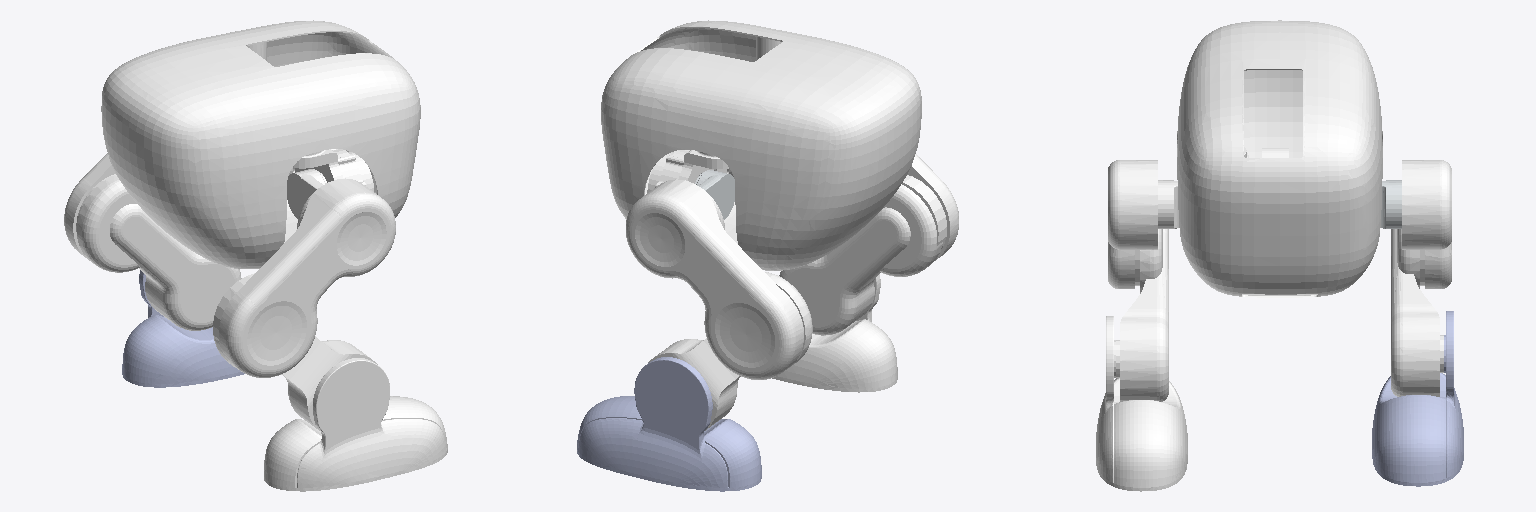
--- What the picture shows (computed from the rendered views, not written in the file) ---
Views: 3 orthographic renders of the robot side by side, from view 1: azimuth 30°, elevation 25°; view 2: azimuth 150°, elevation 25°; view 3: azimuth 270°, elevation 25°.
Robot: tangba — 16 links, 15 joints (10 revolute, 5 fixed); root link base_link; default pose: all joints at 0.
Links seen in each view (by area): view 1: base_link, leg_r3_link, leg_r5_link, leg_l4_link, leg_l5_link, leg_r4_link, leg_r1_link, leg_l3_link, leg_r2_link; view 2: base_link, leg_l3_link, leg_l5_link, leg_r4_link, leg_r5_link, leg_l4_link, leg_r3_link, leg_l1_link, leg_l2_link; view 3: base_link, leg_l5_link, leg_r5_link, leg_r4_link, leg_l4_link, leg_r3_link, leg_l3_link, leg_l2_link, leg_r2_link.
Boxes of the visible links, x1,y1,x2,y2 form: base_link: (101, 20, 420, 268); leg_r3_link: (213, 178, 395, 377); leg_r5_link: (264, 358, 447, 491); leg_l4_link: (77, 175, 241, 330); leg_l5_link: (122, 270, 244, 387); leg_r4_link: (213, 335, 377, 430); leg_r1_link: (293, 149, 373, 191); leg_l3_link: (64, 153, 115, 257); leg_r2_link: (287, 169, 326, 218); base_link: (601, 20, 921, 270); leg_l3_link: (626, 179, 803, 379); leg_l5_link: (577, 357, 761, 491); leg_r4_link: (779, 184, 942, 335); leg_r5_link: (772, 274, 897, 392); leg_l4_link: (648, 272, 812, 430); leg_r3_link: (902, 154, 958, 260); leg_l1_link: (647, 150, 728, 192); leg_l2_link: (695, 170, 734, 219); base_link: (1177, 20, 1382, 297); leg_l5_link: (1372, 311, 1463, 486); leg_r5_link: (1096, 316, 1187, 491); leg_r4_link: (1116, 229, 1168, 401); leg_l4_link: (1391, 229, 1443, 396); leg_r3_link: (1108, 160, 1157, 288); leg_l3_link: (1402, 160, 1451, 288); leg_l2_link: (1381, 180, 1401, 228); leg_r2_link: (1158, 180, 1178, 228).
Bounding box of the posed robot: 0.3866 × 0.4556 × 0.4997 m (x, y, z).
Meshes: 11 distinct files referenced, 11 mesh visuals loaded (11 binary STL).

URDF robot description (tangba):
<?xml version="1.0" encoding="utf-8"?>
<!-- This URDF was automatically created by SolidWorks to URDF Exporter! Originally created by Stephen Brawner ([email redacted]) 
     Commit Version: 1.6.0-4-g7f85cfe  Build Version: 1.6.7995.38578
     For more information, please see http://wiki.ros.org/sw_urdf_exporter -->
<robot
  name="tangba">
    
  <gazebo>
    <plugin name="gazebo_ros_control" filename="libhunter_bipedal_hw_sim.so">
      <robotNamespace>/</robotNamespace>
      <robotParam>legged_robot_description</robotParam>
      <robotSimType>legged_gazebo/LeggedHWSim</robotSimType>
    </plugin>
  </gazebo>

  <gazebo>
    <plugin filename="libgazebo_ros_p3d.so" name="p3d_base_controller">
      <alwaysOn>true</alwaysOn>
      <updateRate>500.0</updateRate>
      <bodyName>base_link</bodyName>
      <topicName>ground_truth/state</topicName>
      <gaussianNoise>0</gaussianNoise>
      <frameName>world</frameName>
      <xyzOffsets>0 0 0</xyzOffsets>
      <rpyOffsets>0 0 0</rpyOffsets>
    </plugin>
  </gazebo>

  <link
    name="base_link">
    <inertial>
      <origin
        xyz="-0.0381325 -0.0043577 0.1372842"
        rpy="0 0 0" />
      <mass
        value="3.71439" />
      <inertia
        ixx="0.0693054"
        ixy="-0.0012640"
        ixz="0.0028288"
        iyy="0.1060973"
        iyz="0.0053874"
        izz="0.0974062" />
    </inertial>
    <visual>
      <origin
        xyz="0 0 0"
        rpy="0 0 0" />
      <geometry>
        <mesh
          filename="package://legged_hunter_description/tangba_meshes/base_link.STL" />
      </geometry>
      <material
        name="">
        <color
          rgba="1 1 1 1" />
      </material>
    </visual>
    <collision>
      <origin
        xyz="0 0 0"
        rpy="0 0 0" />
      <geometry>
        <box size="0.001 0.001 0.001" /><!--宽 长 高!-->
      </geometry>
    </collision>
  </link>
  <!-- Imu is fixed to the base link -->
  <joint name="imu_joint" type="fixed">
    <origin rpy="0. 0. 0." xyz="0. 0. 0"/>
    <parent link="base_link"/>
    <child link="imu_link"/>
  </joint>
  <!-- Imu link -->
  <link name="imu_link">
    <inertial>
      <mass value="0.01"/>
      <origin rpy="0 0 0" xyz="0 0 0"/>
      <inertia ixx="0.000001" ixy="0" ixz="0" iyy="0.000001" iyz="0" izz="0.000001"/>
    </inertial>
    <visual>
      <origin rpy="0 0 0" xyz="0 0 0"/>
      <geometry>
        <box size="0.015 0.015 0.004"/>
      </geometry>
    </visual>
    <material name="orange">
      <color rgba="255 108 10 255"/>
    </material>
  </link>
  <gazebo reference="imu_joint">
    <disableFixedJointLumping>true</disableFixedJointLumping>
  </gazebo>

  <link
    name="leg_l1_link">
    <inertial>
      <origin
        xyz="0.0304529 -0.0000146 -0.0635827"
        rpy="0 0 0" />
      <mass
        value="1.2581230" />
      <inertia
        ixx="0.0011909"
        ixy="-0.0000006"
        ixz="0.0002906"
        iyy="0.0011775"
        iyz="-0.0000001"
        izz="0.0005895" />
    </inertial>
    <visual>
      <origin
        xyz="0 0 0"
        rpy="0 0 0" />
      <geometry>
        <mesh
          filename="package://legged_hunter_description/tangba_meshes/link_left_hip_yaw.STL" />
      </geometry>
      <material
        name="">
        <color
          rgba="1 1 1 1" />
      </material>
    </visual>
    <collision>
      <origin
        xyz="0 0 0"
        rpy="0 0 0" />
      <geometry>
        <box size="0.001 0.001 0.001" /><!--宽 长 高!-->
      </geometry>
    </collision>
  </link>
  <joint
    name="leg_l1_joint"
    type="revolute">
    <origin
      xyz="0.0200750000000063 0.0680000000000003 0.138"
      rpy="0 0 0" />
    <parent
      link="base_link" />
    <child
      link="leg_l1_link" />
    <axis
      xyz="0 0 1" />
    <limit
      lower="-0.34906"
      upper="0.34906"
      effort="12"
      velocity="14" />
  </joint>
  <link
    name="leg_l2_link">
    <inertial>
      <origin
        xyz="0.0410651 -0.0001061 0.0182024"
        rpy="0 0 0" />
      <mass
        value="0.4307105" />
      <inertia
        ixx="0.0001837"
        ixy="0.0000017"
        ixz="-0.0000761"
        iyy="0.0005959"
        iyz="0.0000002"
        izz="0.0006400" />
    </inertial>
    <visual>
      <origin
        xyz="0 0 0"
        rpy="0 0 0" />
      <geometry>
        <mesh
          filename="package://legged_hunter_description/tangba_meshes/link_left_hip_roll.STL" />
      </geometry>
      <material
        name="">
        <color
          rgba="0.898039215686275 0.917647058823529 0.929411764705882 1" />
      </material>
    </visual>
    <collision>
      <origin
        xyz="0 0 0"
        rpy="0 0 0" />
      <geometry>
          <box size="0.001 0.001 0.001" /><!--宽 长 高!-->
      </geometry>
    </collision>
  </link>
  <joint
    name="leg_l2_joint"
    type="revolute">
    <origin
      xyz="0.0225 0 -0.0715"
      rpy="-1.5707963267949 0 1.57079632679489" />
    <parent
      link="leg_l1_link" />
    <child
      link="leg_l2_link" />
    <axis
      xyz="-0.0355014772726285 0 0.999369623868697" />
    <limit
      lower="-0.1745"
      upper="0.34906"
      effort="12"
      velocity="14" />
  </joint>
  <link
    name="leg_l3_link">
    <inertial>
      <origin
        xyz="-0.0689138  -0.0570379 -0.0228633"
        rpy="0 0 0" />
      <mass
        value="2.9774665" />
      <inertia
        ixx="0.0106822"
        ixy="-0.0086380"
        ixz="-0.0010399"
        iyy="0.0133553"
        iyz="-0.0008543"
        izz="0.0224789" />
    </inertial>
    <visual>
      <origin
        xyz="0 0 0"
        rpy="0 0 0" />
      <geometry>
        <mesh
          filename="package://legged_hunter_description/tangba_meshes/link_left_hip_pitch.STL" />
      </geometry>
      <material
        name="">
        <color
          rgba="1 1 1 1" />
      </material>
    </visual>
    <collision>
      <origin
        xyz="0 0 0"
        rpy="0 0 0" />
      <geometry>
          <box size="0.001 0.001 0.001" /><!--宽 长 高!-->
      </geometry>
    </collision>
  </link>
  <joint
    name="leg_l3_joint"
    type="revolute">
    <origin
      xyz="0.0849999999999993 0 0.0224999999279662"
      rpy="3.14159265358979 1.5707963267949 0" />
    <parent
      link="leg_l2_link" />
    <child
      link="leg_l3_link" />
    <axis
      xyz="0.0355014772726165 0 0.999369623868697" />
    <limit
      lower="-0.6981"
      upper="1.8"
      effort="12"
      velocity="14" />
  </joint>
  <link
    name="leg_l4_link">
    <inertial>
      <origin
        xyz=" 0.0796166 -0.0850826  -0.0175707"
        rpy="0 0 0" />
      <mass
        value="1.5242262" />
      <inertia
        ixx="0.0040232"
        ixy="0.0026807"
        ixz="0.0007623"
        iyy="0.0036656"
        iyz="-0.0008197"
        izz="0.0067465" />
    </inertial>
    <visual>
      <origin
        xyz="0 0 0"
        rpy="0 0 0" />
      <geometry>
        <mesh
          filename="package://legged_hunter_description/tangba_meshes/link_left_knee.STL" />
      </geometry>
      <material
        name="">
        <color
          rgba="1 1 1 1" />
      </material>
    </visual>
    <collision>
      <origin
        xyz="0 0 0"
        rpy="0 0 0" />
      <geometry>
        <box size="0.12 0.1 0.06" /> <!-- 膝关节部件 -->
      </geometry>
    </collision>
  </link>
  <joint
    name="leg_l4_joint"
    type="revolute">
    <origin
      xyz="-0.119085999406409 -0.10231092202195 -0.00450000000000123"
      rpy="0 0 0" />
    <parent
      link="leg_l3_link" />
    <child
      link="leg_l4_link" />
    <axis
      xyz="0 0 -1" />
    <limit
      lower="-0.6806784082777885"
      upper="1.5707963267948966"
      effort="30"
      velocity="14" />
  </joint>
  <link
    name="leg_l_f2_link">
  </link>
  <joint
    name="leg_l5_fixed_1"
    type="fixed">
    <origin
      xyz="-0.094 0 -0.11"
      rpy="0 0 0" />
    <parent
      link="leg_l5_link" />
    <child
      link="leg_l_f2_link" />
  </joint>
  <link
    name="leg_l_f1_link">
  </link>
  <joint
    name="leg_l5_fixed_2"
    type="fixed">
    <origin
      xyz="0.1515 0 -0.11"
      rpy="0 0 0" />
    <parent
      link="leg_l5_link" />
    <child
      link="leg_l_f1_link" />
  </joint>
  <link
    name="leg_l5_link">
    <inertial>
      <origin
        xyz="0.0242470 -0.0130185 -0.0732293"
        rpy="0 0 0" />
      <mass
        value="1.3694143" />
      <inertia
        ixx="0.0033166"
        ixy="0.0001626"
        ixz="0.0005165"
        iyy="0.0062601"
        iyz="-0.0006330"
        izz="0.0054879" />
    </inertial>
    <visual>
      <origin
        xyz="0 0 0"
        rpy="0 0 0" />
      <geometry>
        <mesh
          filename="package://legged_hunter_description/tangba_meshes/link_left_ankle.STL" />
      </geometry>
      <material
        name="">
        <color
          rgba="0.792156862745098 0.819607843137255 0.933333333333333 1" />
      </material>
    </visual>
    <collision>
      <origin
        xyz="0 0 -0.03"
        rpy="0 0 0" />
      <geometry>
        <box size="0.1 0.08 0.15" /> <!-- 踝关节部件 -->
      </geometry>
    </collision>
  </link>
  <joint
    name="leg_l5_joint"
    type="revolute">
    <origin
      xyz="0.101882292521187 -0.109129160590203 -0.0445000000000359"
      rpy="-1.5707 0 0" />
    <parent
      link="leg_l4_link" />
    <child
      link="leg_l5_link" />
    <axis
      xyz="0 -1 0" />
    <limit
      lower="-0.5061454830783556"
      upper="1.064650843716541"
      effort="12"
      velocity="14" />
  </joint>
<!-- gazebo left_leg-->
<gazebo reference="leg_l1_link">
    <mu1>0.6</mu1>
    <mu2>0.6</mu2>
    <self_collide>1</self_collide>
  </gazebo>
  <gazebo reference="leg_l2_link">
    <mu1>0.6</mu1>
    <mu2>0.6</mu2>
    <self_collide>1</self_collide>
  </gazebo>
  <gazebo reference="leg_l3_link">
    <mu1>0.6</mu1>
    <mu2>0.6</mu2>
    <self_collide>1</self_collide>
  </gazebo>
  <gazebo reference="leg_l4_link">
    <mu1>0.6</mu1>
    <mu2>0.6</mu2>
    <self_collide>1</self_collide>
  </gazebo>
  <gazebo reference="leg_l5_link">
    <mu1>1.5</mu1>
    <mu2>1.5</mu2>
    <self_collide>1</self_collide>
    <kp value="1000000.0"/>
    <kd value="100.0"/>
    <maxVel>1.0</maxVel>
    <minDepth>0.00</minDepth>
  </gazebo>
  <gazebo reference="leg_l_f1_link">
    <mu1>1.5</mu1>
    <mu2>1.5</mu2>
    <self_collide>1</self_collide>
    <kp value="1000000.0"/>
    <kd value="100.0"/>
    <maxVel>1.0</maxVel>
    <minDepth>0.00</minDepth>
  </gazebo>
  <gazebo reference="leg_l_f2_link">
    <mu1>1.5</mu1>
    <mu2>1.5</mu2>
    <self_collide>1</self_collide>
    <kp value="1000000.0"/>
    <kd value="100.0"/>
    <maxVel>1.0</maxVel>
    <minDepth>0.00</minDepth>
  </gazebo>

  <transmission name="leg_l1_tran">
    <type>transmission_interface/SimpleTransmission</type>
    <joint name="leg_l1_joint">
      <hardwareInterface>hardware_interface/EffortJointInterface</hardwareInterface>
    </joint>
    <actuator name="leg_l1_motor">
      <hardwareInterface>hardware_interface/EffortJointInterface</hardwareInterface>
      <mechanicalReduction>1</mechanicalReduction>
    <maxVelocity>1.484</maxVelocity><!-- 85rpm -->
	  <maxEffort>36.0</maxEffort><!-- 36Nm -->
    </actuator>
  </transmission>

  <transmission name="leg_l2_tran">
    <type>transmission_interface/SimpleTransmission</type>
    <joint name="leg_l2_joint">
      <hardwareInterface>hardware_interface/EffortJointInterface</hardwareInterface>
    </joint>
    <actuator name="leg_l2_motor">
      <hardwareInterface>hardware_interface/EffortJointInterface</hardwareInterface>
      <mechanicalReduction>1</mechanicalReduction>
    <maxVelocity>2.6545</maxVelocity><!-- 160rpm -->
	  <maxEffort>94.0</maxEffort><!-- 94Nm -->
    </actuator>
  </transmission>

  <transmission name="leg_l3_tran">
    <type>transmission_interface/SimpleTransmission</type>
    <joint name="leg_l3_joint">
      <hardwareInterface>hardware_interface/EffortJointInterface</hardwareInterface>
    </joint>
    <actuator name="leg_l3_motor">
      <hardwareInterface>hardware_interface/EffortJointInterface</hardwareInterface>
      <mechanicalReduction>1</mechanicalReduction>
    <maxVelocity>2.6545</maxVelocity><!-- 160rpm -->
	  <maxEffort>94.0</maxEffort><!-- 94Nm -->
    </actuator>
  </transmission>

  <transmission name="leg_l4_tran">
    <type>transmission_interface/SimpleTransmission</type>
    <joint name="leg_l4_joint">
      <hardwareInterface>hardware_interface/EffortJointInterface</hardwareInterface>
    </joint>
    <actuator name="leg_l4_motor">
      <hardwareInterface>hardware_interface/EffortJointInterface</hardwareInterface>
      <mechanicalReduction>1</mechanicalReduction>
    <maxVelocity>1.484</maxVelocity><!-- 85rpm -->
	<maxEffort>36.0</maxEffort><!-- 36Nm -->
    </actuator>
  </transmission>

  <transmission name="leg_l5_tran">
    <type>transmission_interface/SimpleTransmission</type>
    <joint name="leg_l5_joint">
      <hardwareInterface>hardware_interface/EffortJointInterface</hardwareInterface>
    </joint>
    <actuator name="leg_l5_motor">
      <hardwareInterface>hardware_interface/EffortJointInterface</hardwareInterface>
      <mechanicalReduction>1</mechanicalReduction>
    </actuator>
  </transmission>


  <link
    name="leg_r1_link">
    <inertial>
      <origin
        xyz="0.0304529 -0.0000146 -0.0635827"
        rpy="0 0 0" />
      <mass
        value="1.2581230" />
      <inertia
        ixx="0.0011909"
        ixy="-0.0000006"
        ixz="0.0002906"
        iyy="0.0011775"
        iyz="-0.0000001"
        izz="0.0005895" />
    </inertial>
    <visual>
      <origin
        xyz="0 0 0"
        rpy="0 0 0" />
      <geometry>
        <mesh
          filename="package://legged_hunter_description/tangba_meshes/link_right_hip_yaw.STL" />
      </geometry>
      <material
        name="">
        <color
          rgba="1 1 1 1" />
      </material>
    </visual>
    <collision>
      <origin
        xyz="0 0 0"
        rpy="0 0 0" />
      <geometry>
          <box size="0.001 0.001 0.001" /><!--宽 长 高!-->
      </geometry>
    </collision>
  </link>
  <joint
    name="leg_r1_joint"
    type="revolute">
    <origin
      xyz="0.0200750000000058 -0.0679999999999992 0.138"
      rpy="0 0 0" />
    <parent
      link="base_link" />
    <child
      link="leg_r1_link" />
    <axis
      xyz="0 0 1" />
    <limit
      lower="-0.34906"
      upper="0.34906"
      effort="12"
      velocity="14" />
  </joint>
  <link
    name="leg_r2_link">
    <inertial>
      <origin
        xyz="-0.0410699 -0.0001072 0.0182781"
        rpy="0 0 0" />
      <mass
        value="0.4307105" />
      <inertia
        ixx="0.0001829"
        ixy="-0.0000018"
        ixz="0.0000747"
        iyy="0.0005949"
        iyz="0.0000002"
        izz="0.0006399" />
    </inertial>
    <visual>
      <origin
        xyz="0 0 0"
        rpy="0 0 0" />
      <geometry>
        <mesh
          filename="package://legged_hunter_description/tangba_meshes/link_right_hip_roll.STL" />
      </geometry>
      <material
        name="">
        <color
          rgba="1 1 1 1" />
      </material>
    </visual>
    <collision>
      <origin
        xyz="0 0 0"
        rpy="0 0 0" />
      <geometry>
          <box size="0.001 0.001 0.001" /><!--宽 长 高!-->
      </geometry>
    </collision>
  </link>
  <joint
    name="leg_r2_joint"
    type="revolute">
    <origin
      xyz="0.0224999999999977 0 -0.0714999999999994"
      rpy="-1.57079632679488 0 1.5707963267949" />
    <parent
      link="leg_r1_link" />
    <child
      link="leg_r2_link" />
    <axis
      xyz="0 0 -1" />
    <limit
      lower="-0.17453"
      upper="0.34906"
      effort="12"
      velocity="14" />
  </joint>
  <link
    name="leg_r3_link">
    <inertial>
      <origin
        xyz="-0.0658430 0.0604391 -0.0228601"
        rpy="0 0 0" />
      <mass
        value="2.9802188" />
      <inertia
        ixx="0.0116178"
        ixy="0.0087373"
        ixz="-0.0009989"
        iyy=" 0.0124470"
        iyz=" 0.0008994"
        izz=" 0.0225059" />
    </inertial>
    <visual>
      <origin
        xyz="0 0 0"
        rpy="0 0 0" />
      <geometry>
        <mesh
          filename="package://legged_hunter_description/tangba_meshes/link_right_hip_pitch.STL" />
      </geometry>
      <material
        name="">
        <color
          rgba="1 1 1 1" />
      </material>
    </visual>
    <collision>
      <origin
        xyz="0 0 0"
        rpy="0 0 0" />
      <geometry>
          <box size="0.001 0.001 0.001" /><!--宽 长 高!-->
      </geometry>
    </collision>
  </link>
  <joint
    name="leg_r3_joint"
    type="revolute">
    <origin
      xyz="-0.0849999999999561 0 0.0224999999468524"
      rpy="0 1.5707963267949 0" />
    <parent
      link="leg_r2_link" />
    <child
      link="leg_r3_link" />
    <axis
      xyz="0 0 -1" />
    <limit
      lower="-0.698131"
      upper="1.8"
      effort="12"
      velocity="14" />
  </joint>
  <link
    name="leg_r4_link">
    <inertial>
      <origin
        xyz="0.0795575 -0.0850556 0.0175435"
        rpy="0 0 0" />
      <mass
        value="1.5250154" />
      <inertia
        ixx="0.0040319"
        ixy="0.0026859"
        ixz="-0.0007641"
        iyy="0.0036710"
        iyz="0.0008245"
        izz="0.0067574" />
    </inertial>
    <visual>
      <origin
        xyz="0 0 0"
        rpy="0 0 0" />
      <geometry>
        <mesh
          filename="package://legged_hunter_description/tangba_meshes/link_right_knee.STL" />
      </geometry>
      <material
        name="">
        <color
          rgba="1 1 1 1" />
      </material>
    </visual>
    <collision>
      <origin
        xyz="0 0 0"
        rpy="0 0 0" />
      <geometry>
        <box size="0.12 0.1 0.06" /> <!-- 膝关节部件 -->
      </geometry>
    </collision>
  </link>
  <joint
    name="leg_r4_joint"
    type="revolute">
    <origin
      xyz="-0.114760457317049 0.107140270037781 -0.00450000000003428"
      rpy="3.14159265358979 0 0" />
    <parent
      link="leg_r3_link" />
    <child
      link="leg_r4_link" />
    <axis
      xyz="0 0 1" />
    <limit
      lower="-1.5707963"
      upper="0.680678"
      effort="30"
      velocity="14" />
  </joint>
  <link
    name="leg_r_f1_link">
  </link>
  <joint
    name="leg_r5_fixed_1"
    type="fixed">
    <origin
      xyz="0.1515 0 -0.11"
      rpy="0 0 0" />
    <parent
      link="leg_r5_link" />
    <child
      link="leg_r_f1_link" />
  </joint>
  <link
    name="leg_r_f2_link">
  </link>
  <joint
    name="leg_r5_fixed_2"
    type="fixed">
    <origin
      xyz="-0.094 0 -0.11"
      rpy="0 0 0" />
    <parent
      link="leg_r5_link" />
    <child
      link="leg_r_f2_link" />
  </joint>
  <link
    name="leg_r5_link">
    <inertial>
      <origin
        xyz="0.0243158 0.0130219 -0.0732098"
        rpy="0 0 0" />
      <mass
        value="1.3695979" />
      <inertia
        ixx="0.0033159"
        ixy="-0.0001637"
        ixz="0.0005149"
        iyy="0.0062627"
        iyz="0.0006329"
        izz="0.0054913" />
    </inertial>
    <visual>
      <origin
        xyz="0 0 0"
        rpy="0 0 0" />
      <geometry>
        <mesh
          filename="package://legged_hunter_description/tangba_meshes/link_right_ankle.STL" />
      </geometry>
      <material
        name="">
        <color
          rgba="1 1 1 1" />
      </material>
    </visual>
    <collision>
      <origin
        xyz="0 0 -0.03"
        rpy="0 0 0" />
      <geometry>
        <box size="0.1 0.08 0.15" /> <!-- 踝关节部件 -->
      </geometry>
    </collision>
  </link>
  <joint
    name="leg_r5_joint"
    type="revolute">
    <origin
      xyz="0.10199 -0.10903 0.0445"
      rpy="-1.5707 0 0" />
    <parent
      link="leg_r4_link" />
    <child
      link="leg_r5_link" />
    <axis
      xyz="0 1 0" />
    <limit
      lower="-1.0646"
      upper="0.50614"
      effort="12"
      velocity="14" />
  </joint>
<gazebo reference="leg_r1_link">
    <mu1>0.6</mu1>
    <mu2>0.6</mu2>
    <self_collide>1</self_collide>
  </gazebo>
  <gazebo reference="leg_r2_link">
    <mu1>0.6</mu1>
    <mu2>0.6</mu2>
    <self_collide>1</self_collide>
  </gazebo>
  <gazebo reference="leg_r3_link">
    <mu1>0.6</mu1>
    <mu2>0.6</mu2>
    <self_collide>1</self_collide>
  </gazebo>
  <gazebo reference="leg_r4_link">
    <mu1>0.6</mu1>
    <mu2>0.6</mu2>
    <self_collide>1</self_collide>
  </gazebo>
  <gazebo reference="leg_r5_link">
    <mu1>1.5</mu1>
    <mu2>1.5</mu2>
    <self_collide>1</self_collide>
    <kp value="1000000.0"/>
    <kd value="100.0"/>
    <maxVel>1.0</maxVel>
    <minDepth>0.00</minDepth>
  </gazebo>
  <gazebo reference="leg_r_f1_link">
    <mu1>1.5</mu1>
    <mu2>1.5</mu2>
    <self_collide>1</self_collide>
    <kp value="1000000.0"/>
    <kd value="100.0"/>
    <maxVel>1.0</maxVel>
    <minDepth>0.00</minDepth>
  </gazebo>
  <gazebo reference="leg_r_f2_link">
    <mu1>1.5</mu1>
    <mu2>1.5</mu2>
    <self_collide>1</self_collide>
    <kp value="1000000.0"/>
    <kd value="100.0"/>
    <maxVel>1.0</maxVel>
    <minDepth>0.00</minDepth>
  </gazebo>

  <transmission name="leg_r1_tran">
    <type>transmission_interface/SimpleTransmission</type>
    <joint name="leg_r1_joint">
      <hardwareInterface>hardware_interface/EffortJointInterface</hardwareInterface>
    </joint>
    <actuator name="leg_r1_motor">
      <hardwareInterface>hardware_interface/EffortJointInterface</hardwareInterface>
      <mechanicalReduction>1</mechanicalReduction>
      	  <maxVelocity>1.484</maxVelocity><!-- 85rpm -->
	<maxEffort>36.0</maxEffort><!-- 36Nm -->
    </actuator>
  </transmission>

  <transmission name="leg_r2_tran">
    <type>transmission_interface/SimpleTransmission</type>
    <joint name="leg_r2_joint">
      <hardwareInterface>hardware_interface/EffortJointInterface</hardwareInterface>
    </joint>
    <actuator name="leg_r2_motor">
      <hardwareInterface>hardware_interface/EffortJointInterface</hardwareInterface>
      <mechanicalReduction>1</mechanicalReduction>
      	  <maxVelocity>2.6545</maxVelocity><!-- 160rpm -->
	  <maxEffort>94.0</maxEffort><!-- 94Nm -->
    </actuator>
  </transmission>

  <transmission name="leg_r3_tran">
    <type>transmission_interface/SimpleTransmission</type>
    <joint name="leg_r3_joint">
      <hardwareInterface>hardware_interface/EffortJointInterface</hardwareInterface>
    </joint>
    <actuator name="leg_r3_motor">
      <hardwareInterface>hardware_interface/EffortJointInterface</hardwareInterface>
      <mechanicalReduction>1</mechanicalReduction>
      	  <maxVelocity>2.6545</maxVelocity><!-- 160rpm -->
	  <maxEffort>94.0</maxEffort><!-- 94Nm -->
    </actuator>
  </transmission>

  <transmission name="leg_r4_tran">
    <type>transmission_interface/SimpleTransmission</type>
    <joint name="leg_r4_joint">
      <hardwareInterface>hardware_interface/EffortJointInterface</hardwareInterface>
    </joint>
    <actuator name="leg_r4_motor">
      <hardwareInterface>hardware_interface/EffortJointInterface</hardwareInterface>
      <mechanicalReduction>1</mechanicalReduction>
      	  <maxVelocity>1.484</maxVelocity><!-- 85rpm -->
	<maxEffort>36.0</maxEffort><!-- 36Nm -->
    </actuator>
  </transmission>

  <transmission name="leg_r5_tran">
    <type>transmission_interface/SimpleTransmission</type>
    <joint name="leg_r5_joint">
      <hardwareInterface>hardware_interface/EffortJointInterface</hardwareInterface>
    </joint>
    <actuator name="leg_r5_motor">
      <hardwareInterface>hardware_interface/EffortJointInterface</hardwareInterface>
      <mechanicalReduction>1</mechanicalReduction>
    </actuator>
  </transmission>

  <!-- <link
    name="link_neck_pitch">
    <inertial>
      <origin
        xyz="-0.0628997 0.0715822 -0.0077625"
        rpy="0 0 0" />
      <mass
        value="0.8994009" />
      <inertia
        ixx="0.0016865"
        ixy="0.0010580"
        ixz="-0.0003033"
        iyy="0.0015035"
        iyz="0.0003194"
        izz="0.0026739" />
    </inertial>
    <visual>
      <origin
        xyz="0 0 0"
        rpy="0 0 0" />
      <geometry>
        <mesh
          filename="package://legged_hunter_description/tangba_meshes/link_neck_pitch.STL" />
      </geometry>
      <material
        name="">
        <color
          rgba="1 1 1 1" />
      </material>
    </visual>
    <collision>
      <origin
        xyz="0 0 0"
        rpy="0 0 0" />
      <geometry>
        <mesh
          filename="package://legged_hunter_description/tangba_meshes/link_neck_pitch.STL" />
      </geometry>
    </collision>
  </link> -->
  <!-- <joint
    name="joint_neck_pitch"
    type="revolute">
    <origin
      xyz="0.12508 -0.0225 0.1675"
      rpy="1.5708 0 0" />
    <parent
      link="base_link" />
    <child
      link="link_neck_pitch" />
    <axis
      xyz="0 0 1" />
    <limit
      lower="-0.8"
      upper="0.17"
      effort="30"
      velocity="14" />
  </joint>
  <link
    name="link_head_pitch">
    <inertial>
      <origin
        xyz="0.0001020 0.0616982  -0.0172628"
        rpy="0 0 0" />
      <mass
        value="0.5844865" />
      <inertia
        ixx="0.0006356"
        ixy="-0.0000036"
        ixz="-0.0000038"
        iyy="0.0002990"
        iyz="0.0000243"
        izz="0.0004868" />
    </inertial>
    <visual>
      <origin
        xyz="0 0 0"
        rpy="0 0 0" />
      <geometry>
        <mesh
          filename="package://legged_hunter_description/tangba_meshes/link_head_pitch.STL" />
      </geometry>
      <material
        name="">
        <color
          rgba="1 1 1 1" />
      </material>
    </visual>
    <collision>
      <origin
        xyz="0 0 0"
        rpy="0 0 0" />
      <geometry>
        <mesh
          filename="package://legged_hunter_description/tangba_meshes/link_head_pitch.STL" />
      </geometry>
    </collision>
  </link>
  <joint
    name="joint_head_pitch"
    type="revolute">
    <origin
      xyz="-0.083976 0.093265 0.0021976"
      rpy="0 0 0" />
    <parent
      link="link_neck_pitch" />
    <child
      link="link_head_pitch" />
    <axis
      xyz="0 0 1" />
    <limit
      lower="-0.1"
      upper="1.57"
      effort="30"
      velocity="14" />
  </joint>
  <link
    name="link_head_yaw">
    <inertial>
      <origin
        xyz="0.0022326 -0.0000120 0.0411668"
        rpy="0 0 0" />
      <mass
        value="0.5449386" />
      <inertia
        ixx="0.0002460"
        ixy="0.0000002"
        ixz="-0.0000221"
        iyy="0.0002121"
        iyz="0.0000004"
        izz="0.0001209" />
    </inertial>
    <visual>
      <origin
        xyz="0 0 0"
        rpy="0 0 0" />
      <geometry>
        <mesh
          filename="package://legged_hunter_description/tangba_meshes/link_head_yaw.STL" />
      </geometry>
      <material
        name="">
        <color
          rgba="1 1 1 1" />
      </material>
    </visual>
    <collision>
      <origin
        xyz="0 0 0"
        rpy="0 0 0" />
      <geometry>
        <mesh
          filename="package://legged_hunter_description/tangba_meshes/link_head_yaw.STL" />
      </geometry>
    </collision>
  </link>
  <joint
    name="joint_head_yaw"
    type="revolute">
    <origin
      xyz="0 0.092 -0.0175"
      rpy="-1.5708 3.1415926 0" />
    <parent
      link="link_head_pitch" />
    <child
      link="link_head_yaw" />
    <axis
      xyz="0 0 1" />
    <limit
      lower="-1.2"
      upper="1.2"
      effort="30"
      velocity="14" />
  </joint>
  <link
    name="link_head_roll">
    <inertial>
      <origin
        xyz="-0.0029343 0.0022616  -0.0318039"
        rpy="0 0 0" />
      <mass
        value="4.3659297" />
      <inertia
        ixx="0.1261924"
        ixy="-0.0006052"
        ixz="0.0004602"
        iyy="0.0435845"
        iyz="0.0003243"
        izz="0.1411790" />
    </inertial>
    <visual>
      <origin
        xyz="0 0 0"
        rpy="0 0 0" />
      <geometry>
        <mesh
          filename="package://legged_hunter_description/tangba_meshes/link_head_roll.STL" />
      </geometry>
      <material
        name="">
        <color
          rgba="1 1 1 1" />
      </material>
    </visual>
    <collision>
      <origin
        xyz="0 0 0"
        rpy="0 0 0" />
      <geometry>
        <mesh
          filename="package://legged_hunter_description/tangba_meshes/link_head_roll.STL" />
      </geometry>
    </collision>
  </link>
  <joint
    name="joint_head_roll"
    type="revolute">
    <origin
      xyz="0.018 0 0.047"
      rpy="3.1416 -1.5708 0" />
    <parent
      link="link_head_yaw" />
    <child
      link="link_head_roll" />
    <axis
      xyz="0 0 1" />
    <limit
      lower="-0.17"
      upper="0.17"
      effort="30"
      velocity="14" />
  </joint>
  <link
    name="link_left_ear">
    <inertial>
      <origin
        xyz="-0.0005001 0.0206344 0.0075149"
        rpy="0 0 0" />
      <mass
        value="0.0710962" />
      <inertia
        ixx="0.0001006"
        ixy="0.0000000"
        ixz="0.0000000"
        iyy="0.0001094"
        iyz="-0.0000053"
        izz="0.0000279" />
    </inertial>
    <visual>
      <origin
        xyz="0 0 0"
        rpy="0 0 0" />
      <geometry>
        <mesh
          filename="package://legged_hunter_description/tangba_meshes/link_left_ear.STL" />
      </geometry>
      <material
        name="">
        <color
          rgba="1 1 1 1" />
      </material>
    </visual>
    <collision>
      <origin
        xyz="0 0 0"
        rpy="0 0 0" />
      <geometry>
        <mesh
          filename="package://legged_hunter_description/tangba_meshes/link_left_ear.STL" />
      </geometry>
    </collision>
  </link>
  <joint
    name="joint_left_ear"
    type="revolute">
    <origin
      xyz="0.05 0.2405 0.0159"
      rpy="3.1416 1.5708 3.1416" />
    <parent
      link="link_head_roll" />
    <child
      link="link_left_ear" />
    <axis
      xyz="0 -1 0" />
    <limit
      lower="0"
      upper="0"
      effort="0"
      velocity="0" />
  </joint>
  <link
    name="link_right_ear">
    <inertial>
      <origin
        xyz="-0.0005000 -0.0206344 0.0075149"
        rpy="0 0 0" />
      <mass
        value="0.0710962" />
      <inertia
        ixx="0.0001006"
        ixy="0.0000000"
        ixz="0.0000000"
        iyy="0.0001094"
        iyz="0.0000053"
        izz="0.0000279" />
    </inertial>
    <visual>
      <origin
        xyz="0 0 0"
        rpy="0 0 0" />
      <geometry>
        <mesh
          filename="package://legged_hunter_description/tangba_meshes/link_right_ear.STL" />
      </geometry>
      <material
        name="">
        <color
          rgba="1 1 1 1" />
      </material>
    </visual>
    <collision>
      <origin
        xyz="0 0 0"
        rpy="0 0 0" />
      <geometry>
        <mesh
          filename="package://legged_hunter_description/tangba_meshes/link_right_ear.STL" />
      </geometry>
    </collision>
  </link>
  <joint
    name="joint_right_ear"
    type="revolute">
    <origin
      xyz="0.05 -0.2405 0.0159"
      rpy="3.1416 1.5708 3.1416" />
    <parent
      link="link_head_roll" />
    <child
      link="link_right_ear" />
    <axis
      xyz="0 1 0" />
    <limit
      lower="0"
      upper="0"
      effort="0"
      velocity="0" />
  </joint> -->
</robot>
